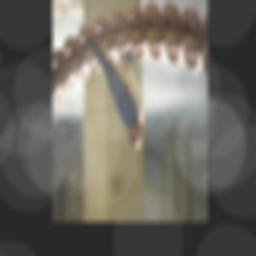Swallow: (75, 0, 145, 151)
